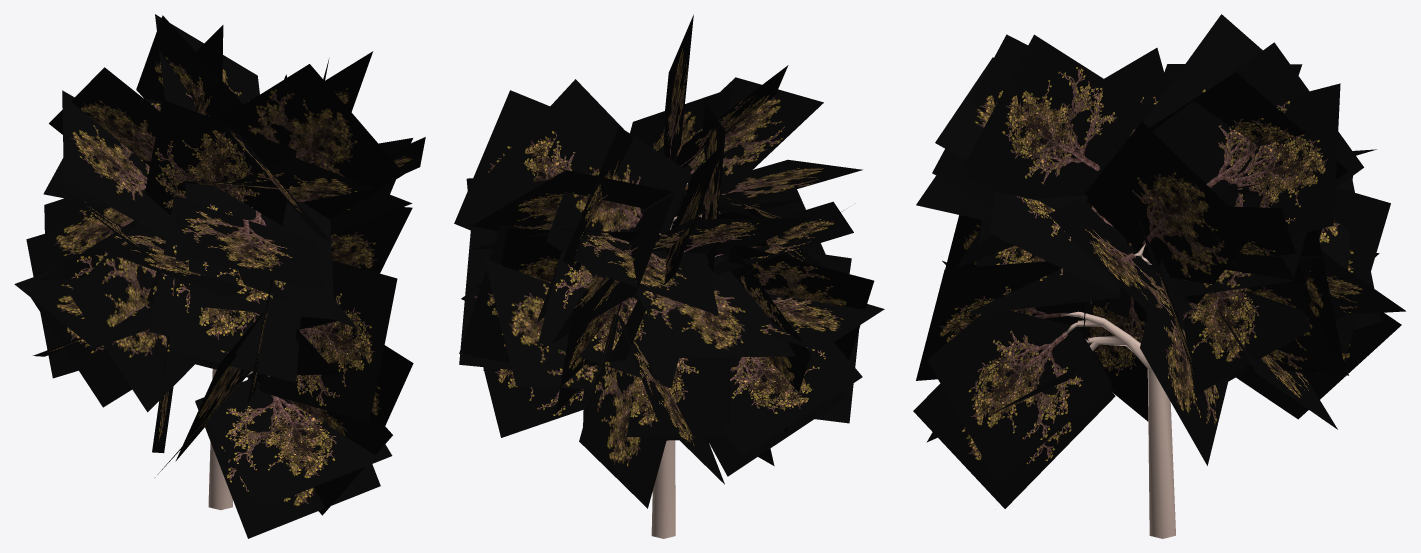
File: tree41.glb
3 renders of one model, left to right at view 1: azimuth 30°, elevation 25°; view 2: azimuth 150°, elevation 25°; view 3: azimuth 270°, elevation 25°, orthographic. The views are drawn at different scales.
Size of the model in its own units: 6.16 by 7.14 by 6.22.
2 materials, 1 textured.
